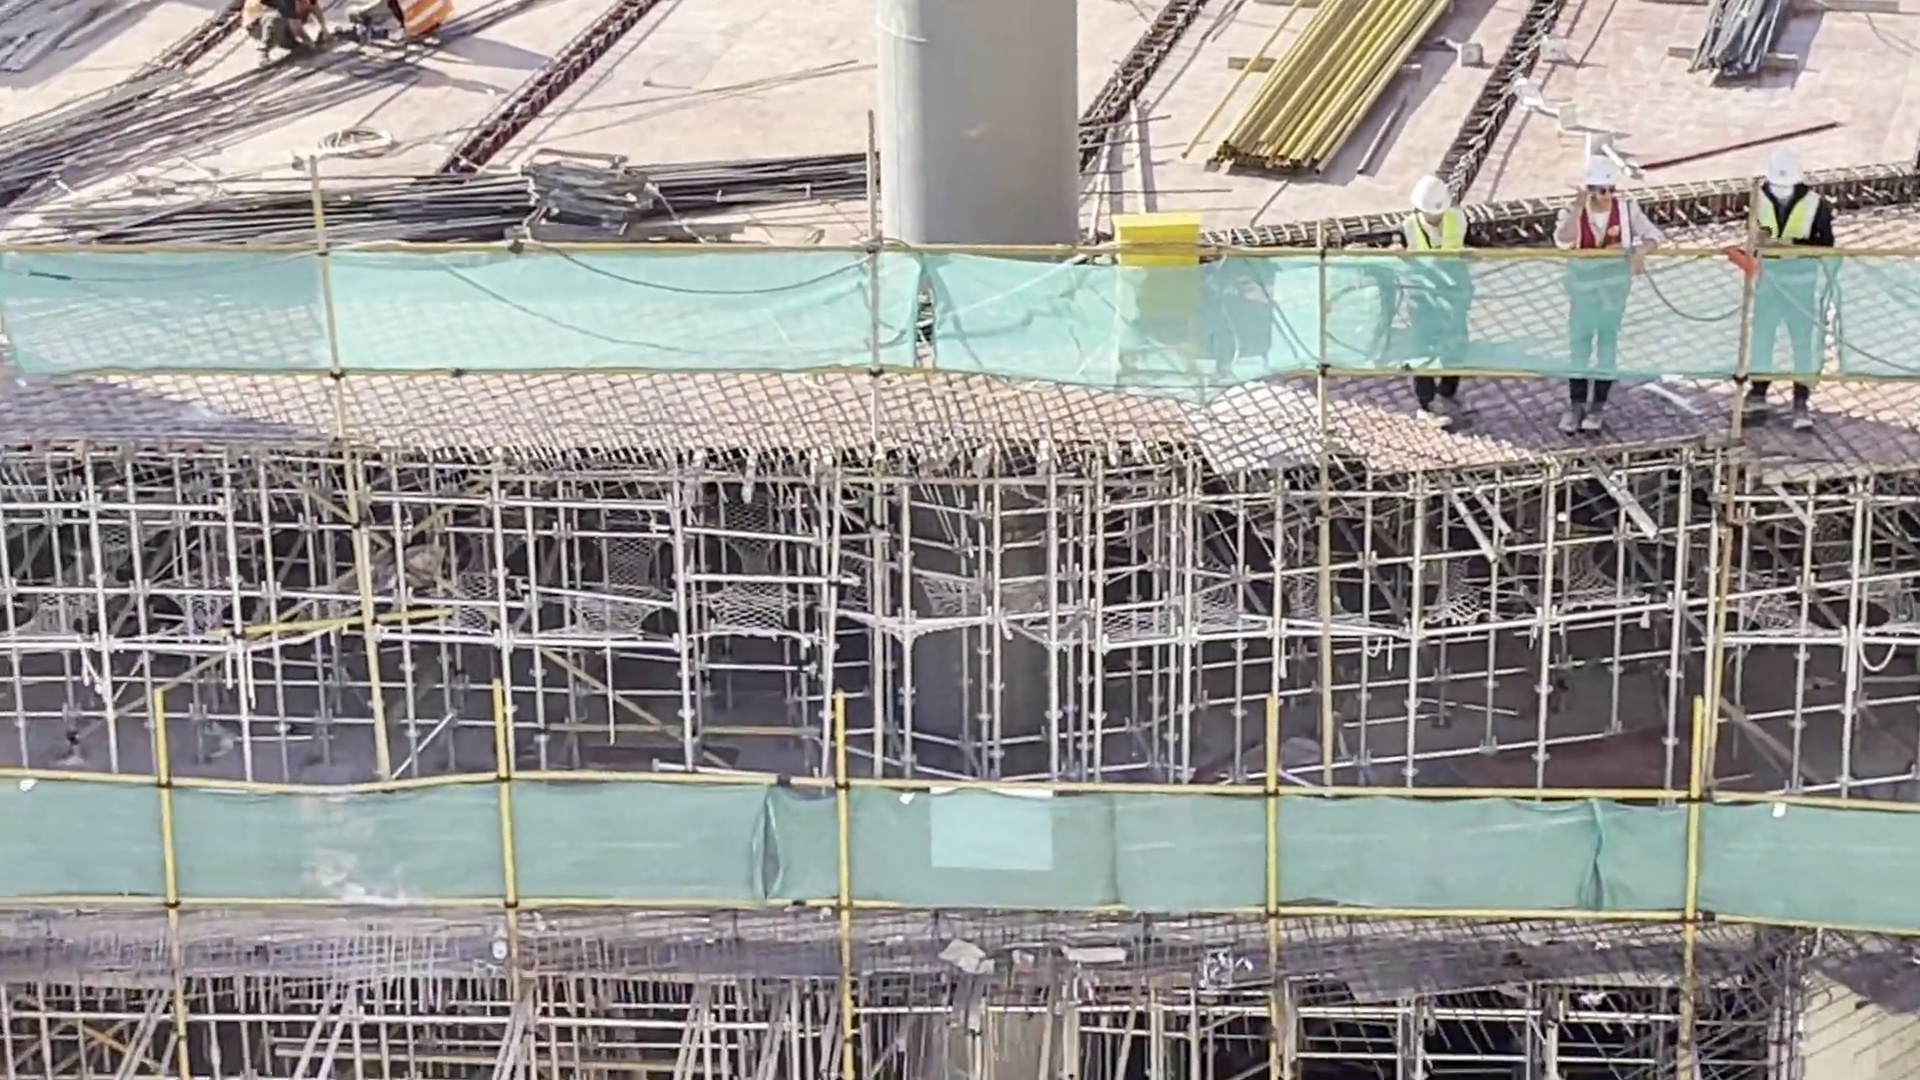ebox: (1100, 197, 1208, 365)
helmet: (1407, 178, 1451, 216), (1764, 145, 1799, 190), (1584, 163, 1623, 189)
person: (1734, 160, 1841, 450), (1374, 167, 1501, 408), (1554, 143, 1633, 413)
vest: (1569, 191, 1622, 301), (1752, 180, 1822, 258), (1399, 208, 1455, 286)
